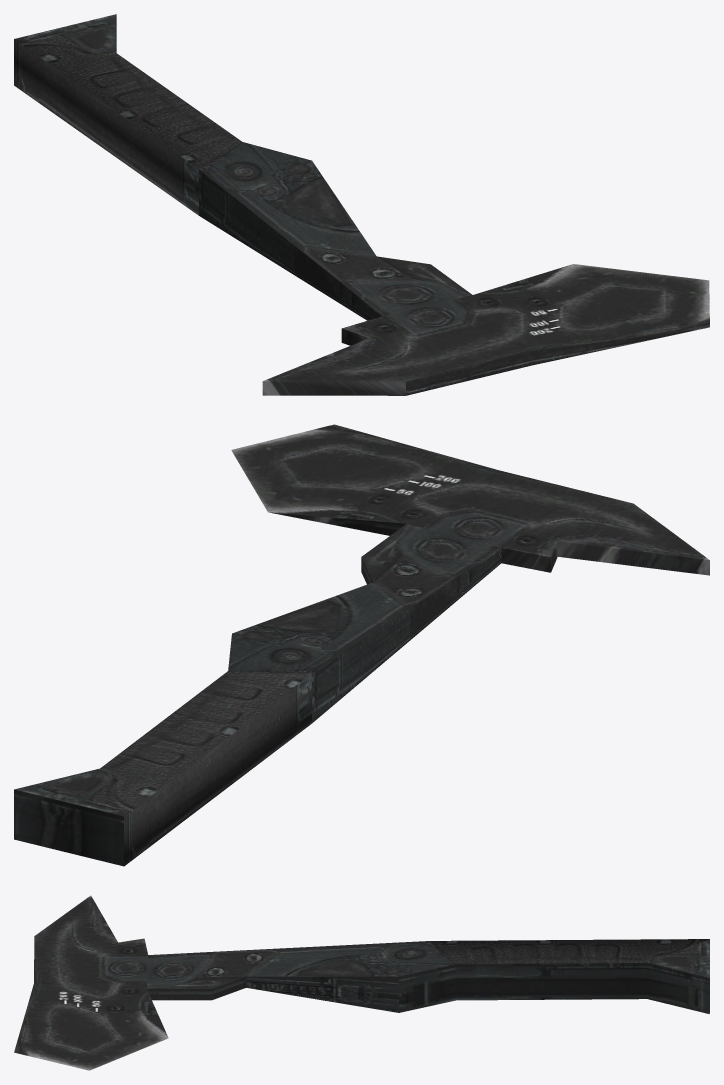
File: t6_wpn_hatchet_world_LOD2.obj
The picture shows the model from 3 angles, top to bottom: view 1: azimuth 30°, elevation 25°; view 2: azimuth 150°, elevation 25°; view 3: azimuth 270°, elevation 25°; orthographic projection. The views are drawn at different scales.
Visible parts, largest first — view 1: mtl_t6_wpn_hatchet; view 2: mtl_t6_wpn_hatchet; view 3: mtl_t6_wpn_hatchet.
Boxes of the visible parts, <box> form: mtl_t6_wpn_hatchet: <box>14,14,709,395</box>; mtl_t6_wpn_hatchet: <box>14,424,709,866</box>; mtl_t6_wpn_hatchet: <box>14,895,709,1070</box>.
Bounding box in the file's own units: 20.03 × 2 × 34.69.
